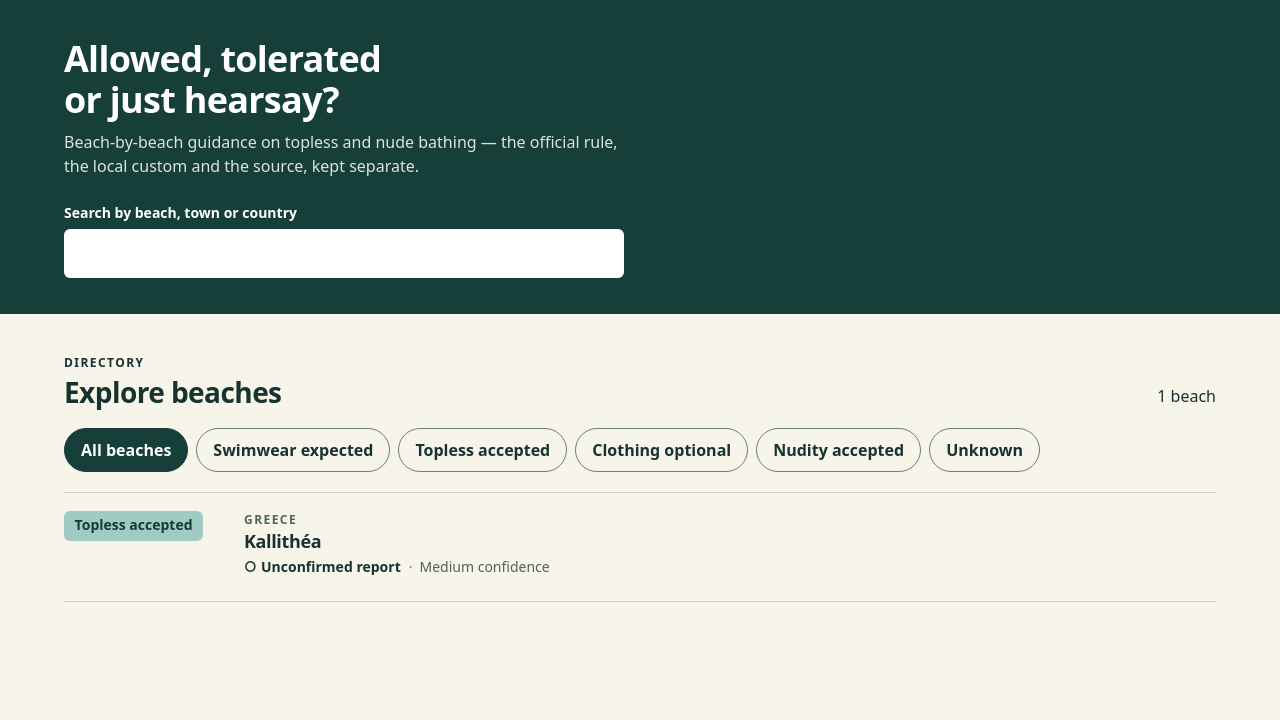
it: HomePage › matches unaccented search queries against accented beach names
Expected: the link "Kallithéa" is shown, [244,529,321,553]
Type "kallithea" into the search field labelled "Search by beach, town or country". click: coordinates (344, 254)
box: [64,229,624,278]
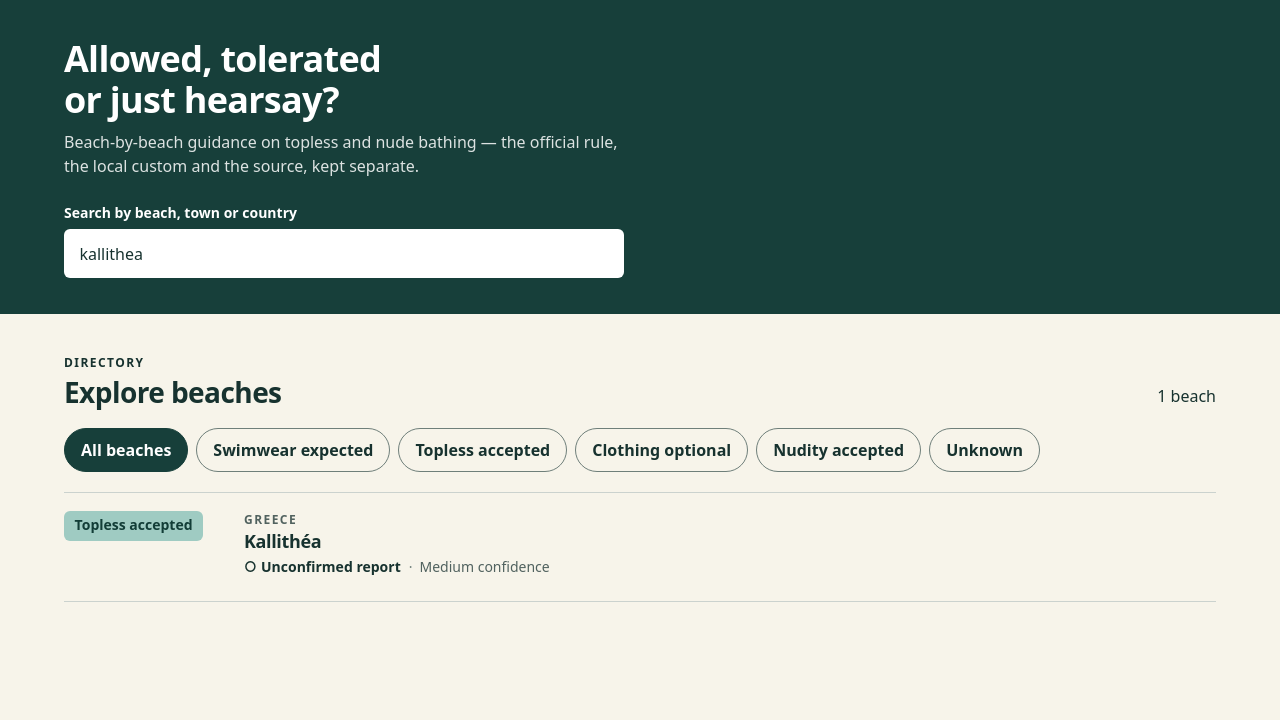
Expected: the link "Kallithéa" is shown, [244,529,321,553]
Replace the text in the search field labelled "Search by beach, town or country" with "somewhere-else". click: coordinates (344, 254)
box: [64,229,624,278]
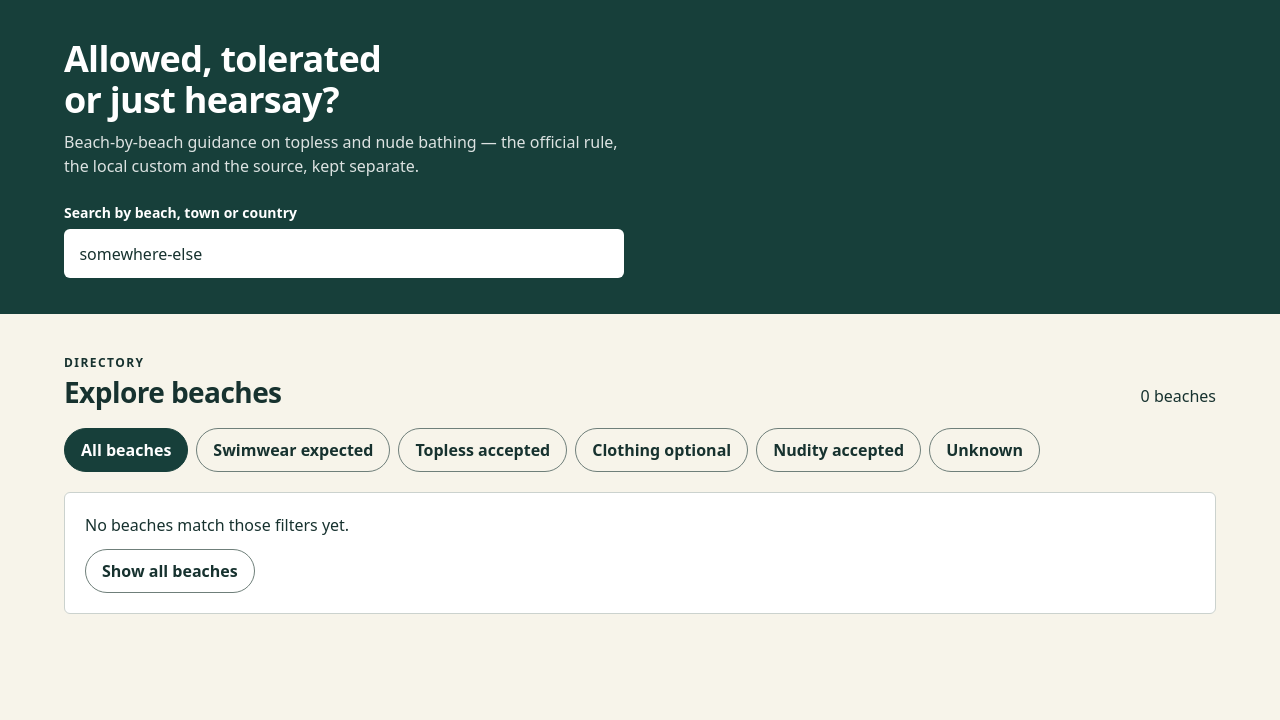
Result: the link "Kallithéa" is gone
